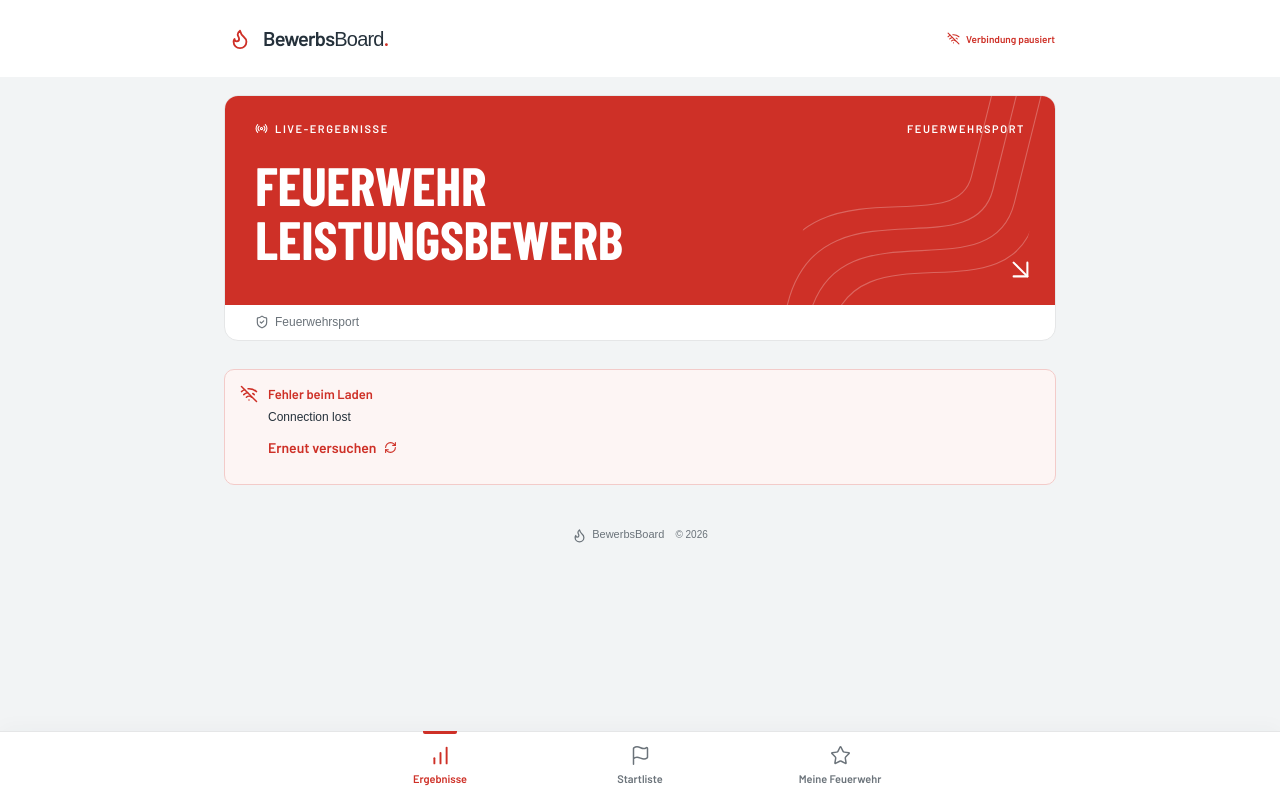
Test case: PublicScoreboard Component › retries an initial loading failure
The width and height of the screenshot is (1280, 800).
Check: the message "Fehler beim Laden Connection lost Erneut versuchen" is shown, box [224,369,1056,485]
Click the button "Erneut versuchen" at (333, 447), box [268,425,397,469]
(page scrolled)
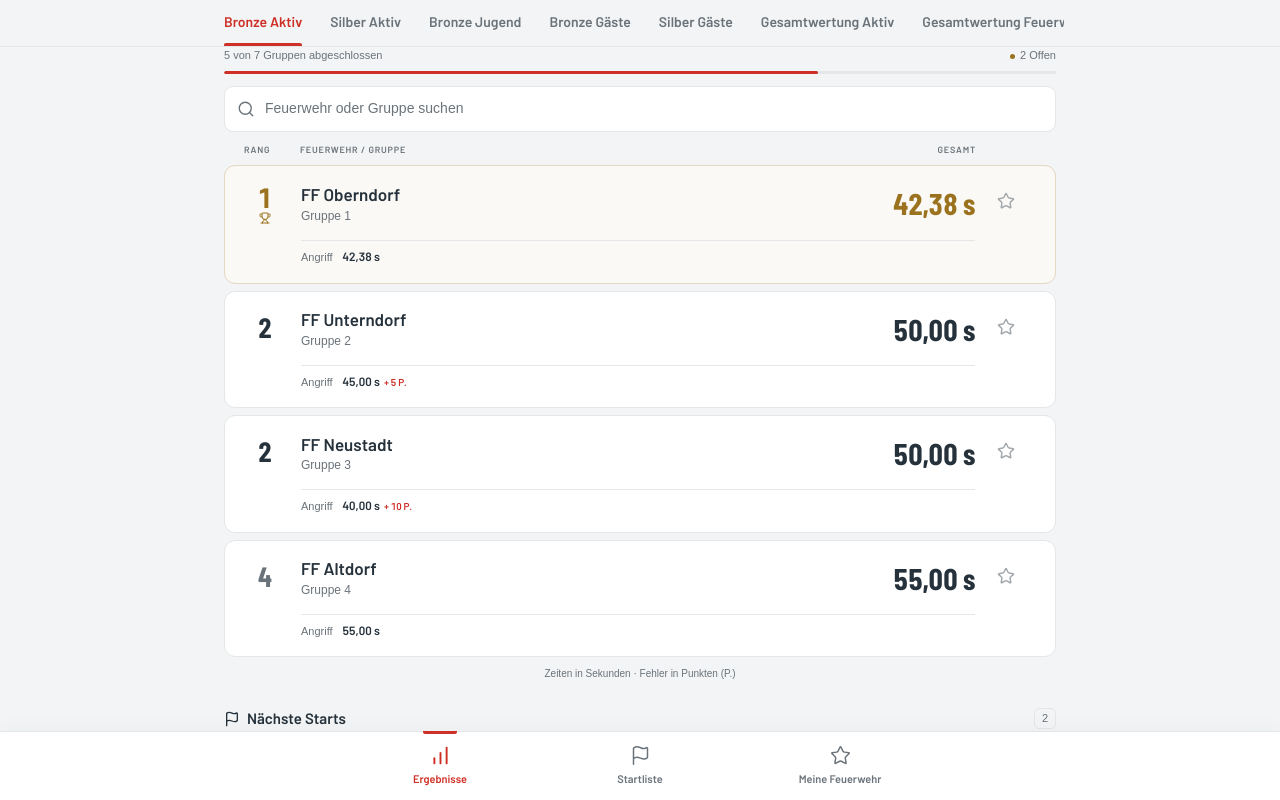
Check: the table is shown, box [224,144,1056,657]
Check: the message "Fehler beim Laden Connection lost Erneut versuchen" is gone
